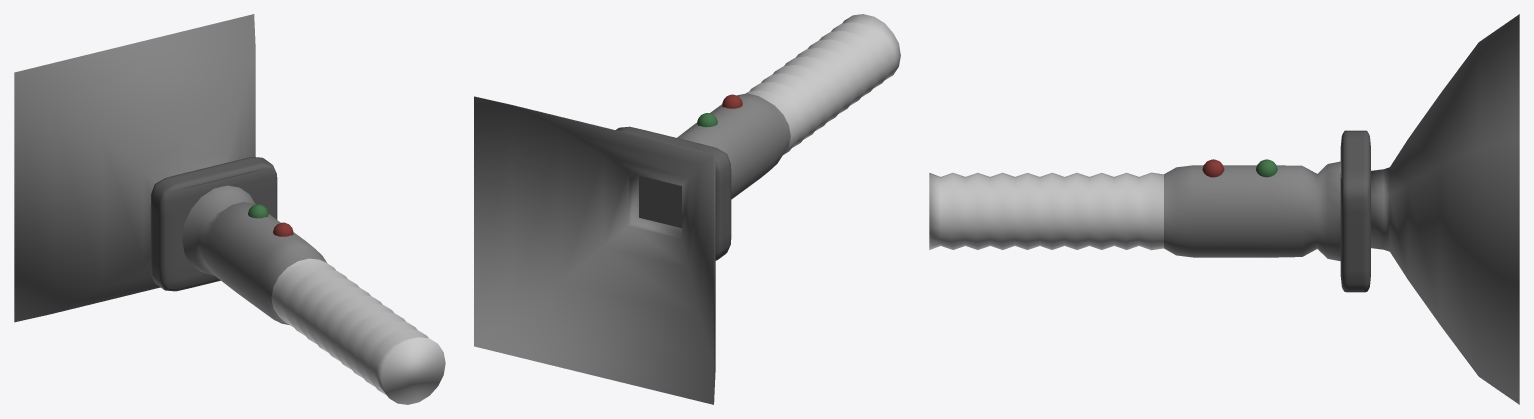
File: AspiradoraModel.fbx
3 views of the same model, side by side, from view 1: azimuth 30°, elevation 25°; view 2: azimuth 150°, elevation 25°; view 3: azimuth 270°, elevation 25° (orthographic). The views are drawn at different scales.
Visible parts, largest first — view 1: Cylinder001; view 2: Cylinder001; view 3: Cylinder001.
Part boxes in pixels (x1=…): Cylinder001: x1=14, y1=14, x2=445, y2=404; Cylinder001: x1=474, y1=14, x2=900, y2=404; Cylinder001: x1=929, y1=14, x2=1519, y2=404.
Bounding box in the file's own units: 52.64 × 52.41 × 105.
